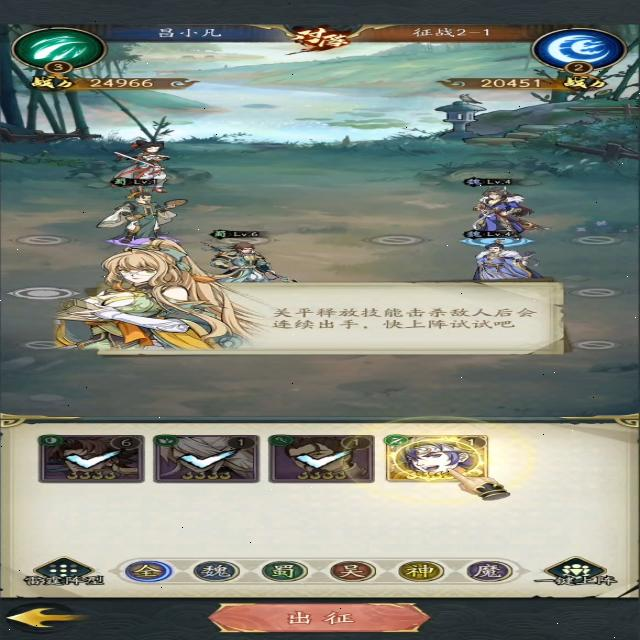hint-guide: (70, 243, 565, 365), (354, 414, 534, 504)
navigation-myHeroes: (28, 432, 150, 485), (266, 431, 377, 486), (382, 431, 493, 485), (152, 432, 264, 484)
operation-back: (4, 600, 91, 634)
operation-camp: (250, 558, 314, 584), (322, 558, 382, 584), (388, 557, 446, 583), (459, 557, 513, 583), (118, 559, 174, 584), (190, 559, 246, 584)
operation-confirm: (204, 601, 434, 636)
operation-deployment: (20, 554, 106, 588)
operation-oneKeyDeployment: (525, 552, 622, 592)
